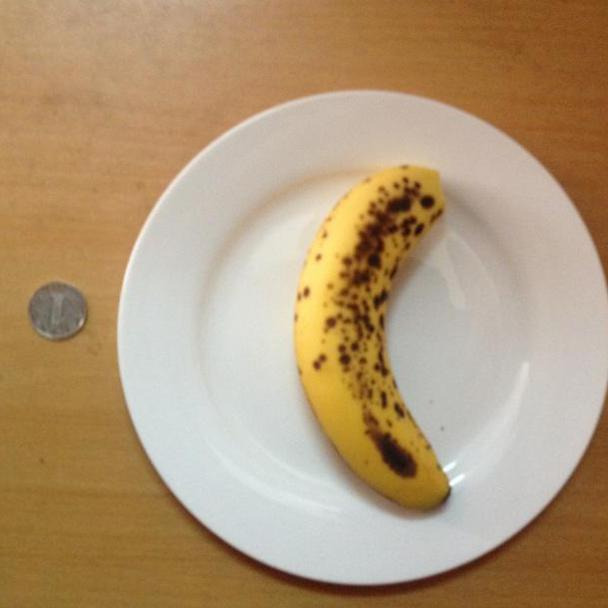banana: (292, 160, 464, 518)
